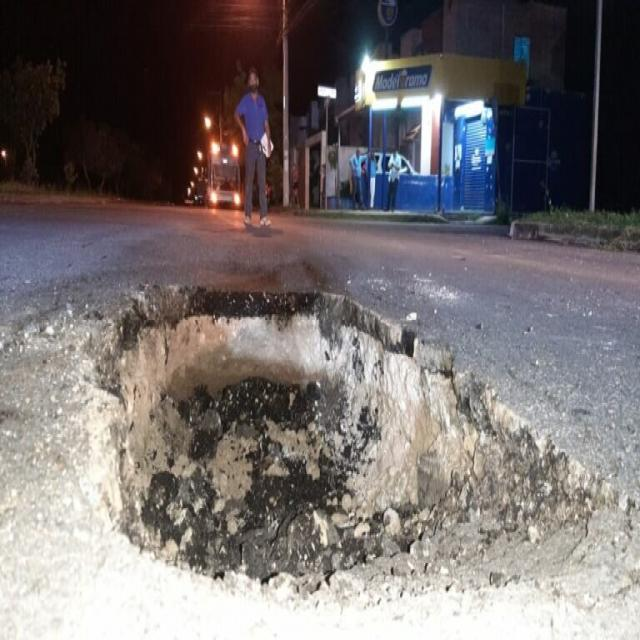Pothole: (66, 250, 609, 624)
